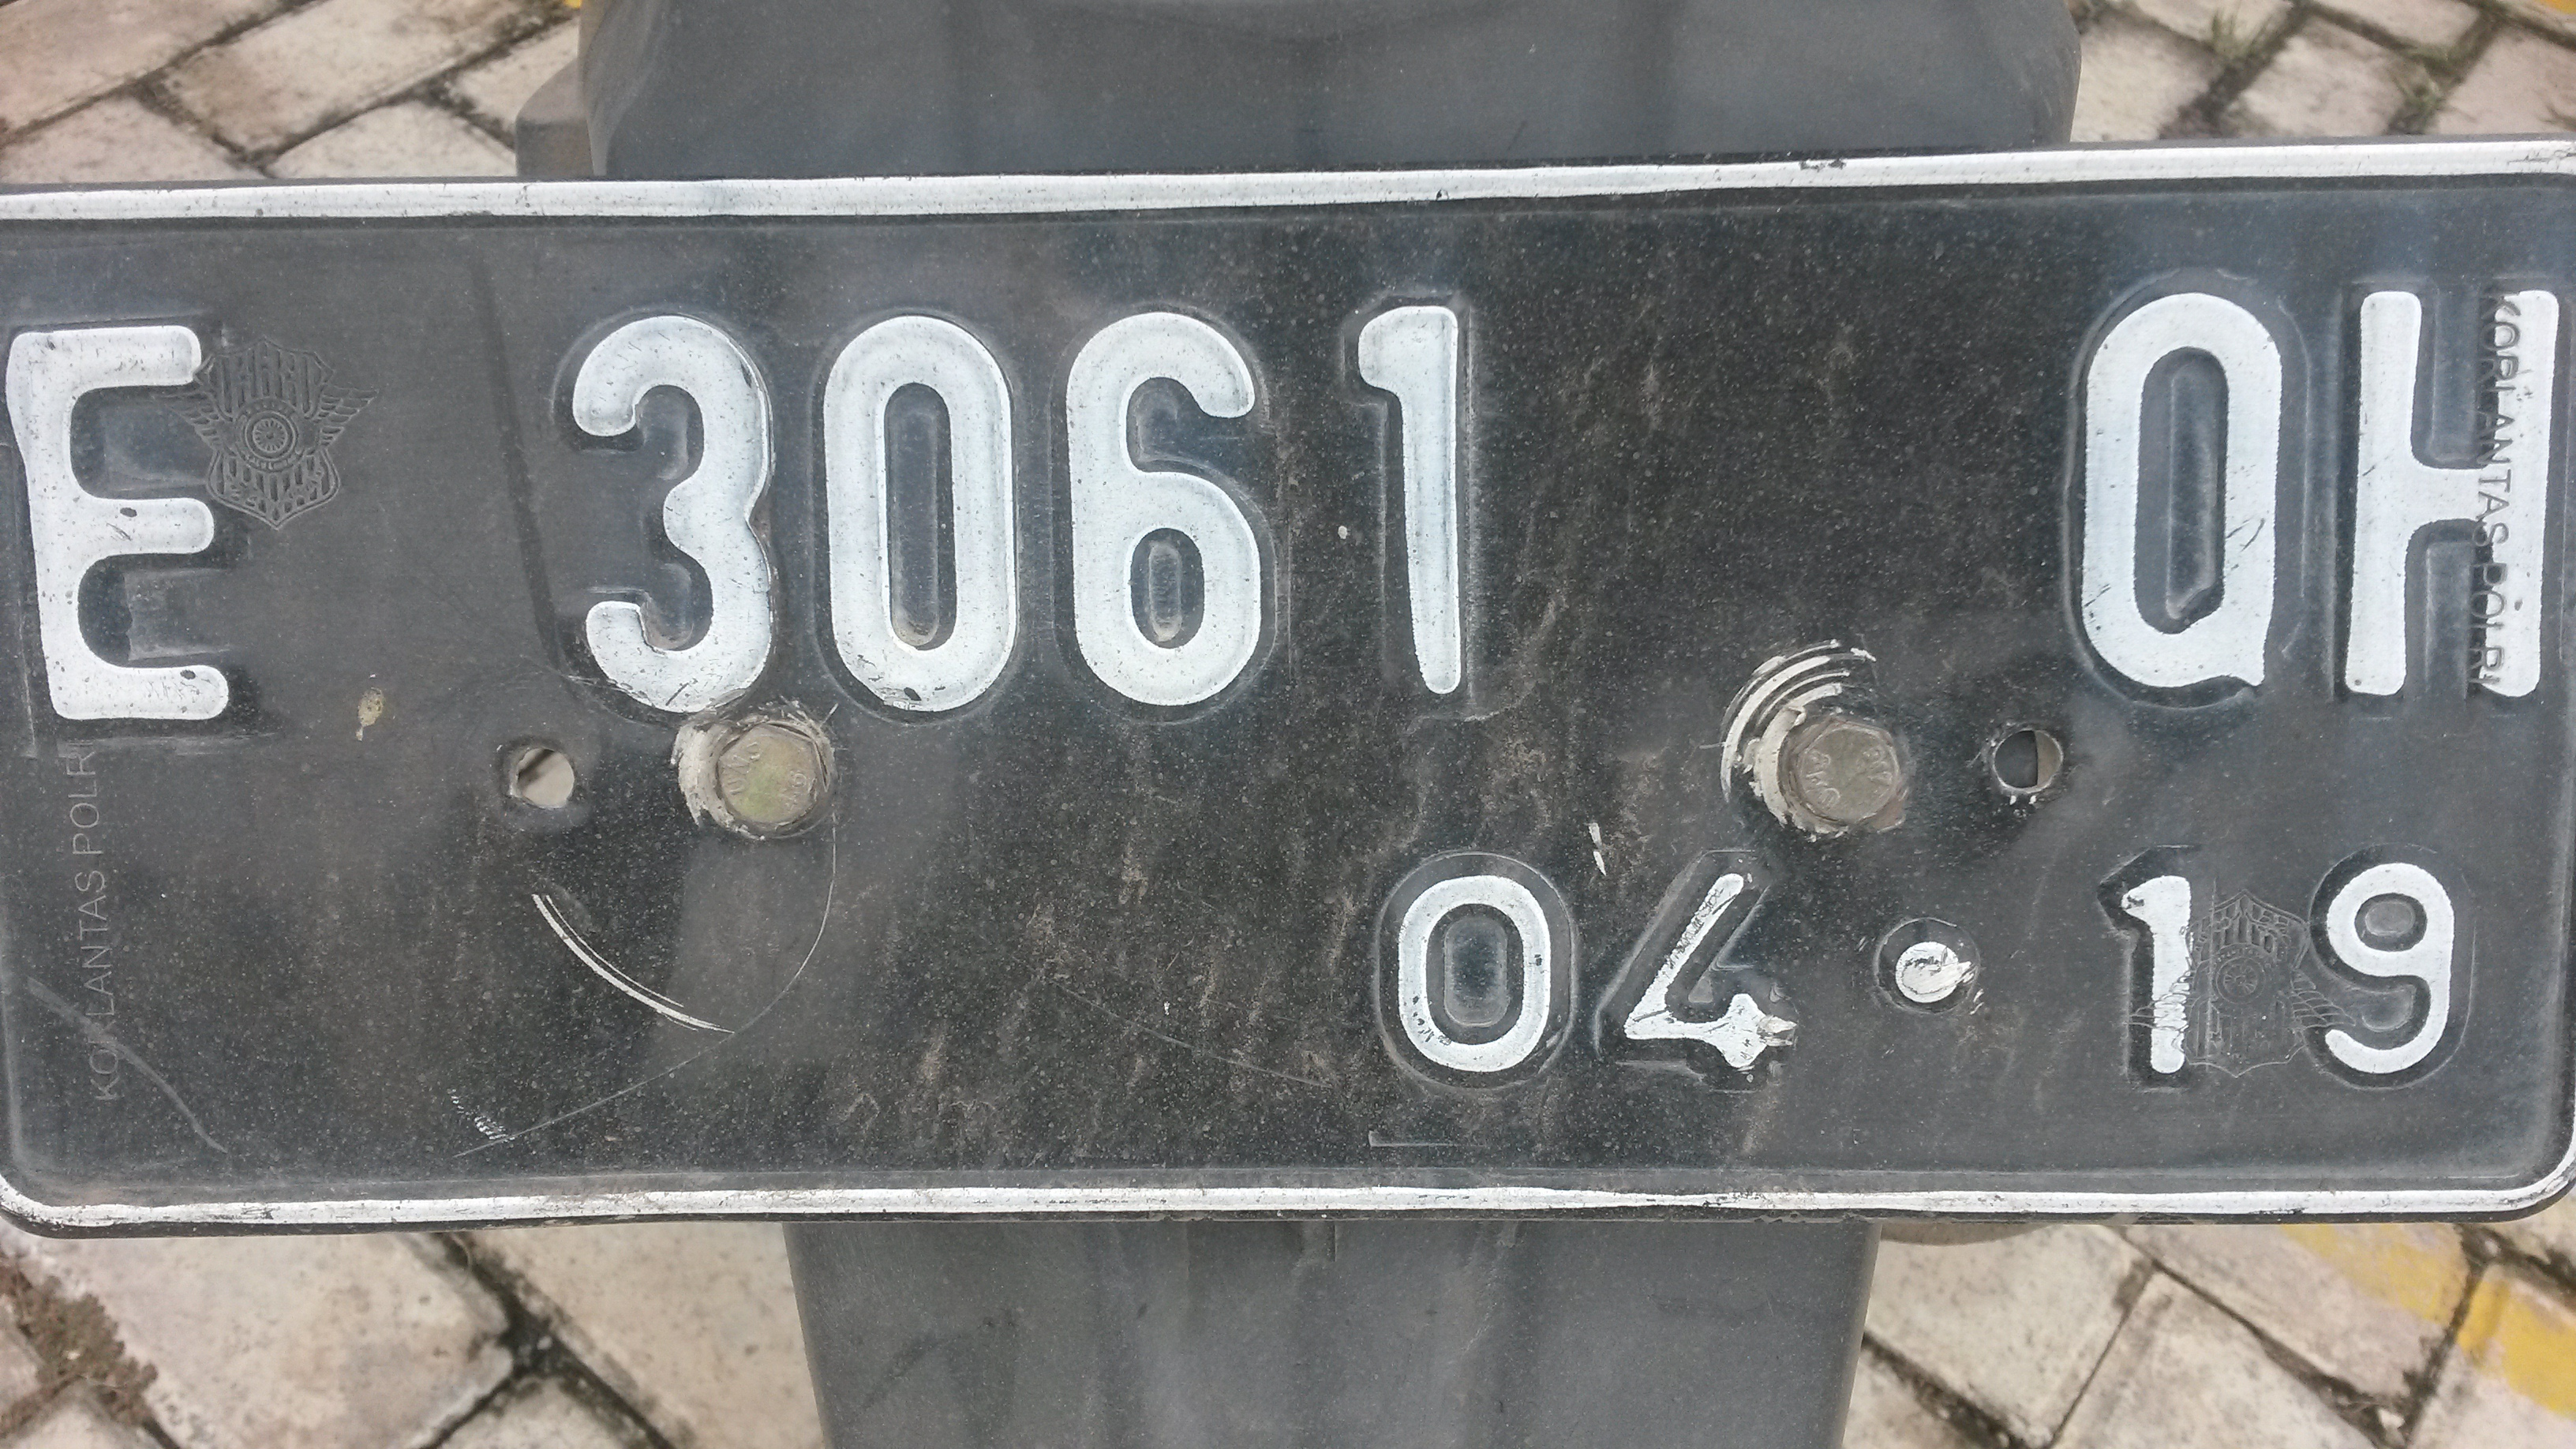plate: (1, 131, 2576, 1228)
